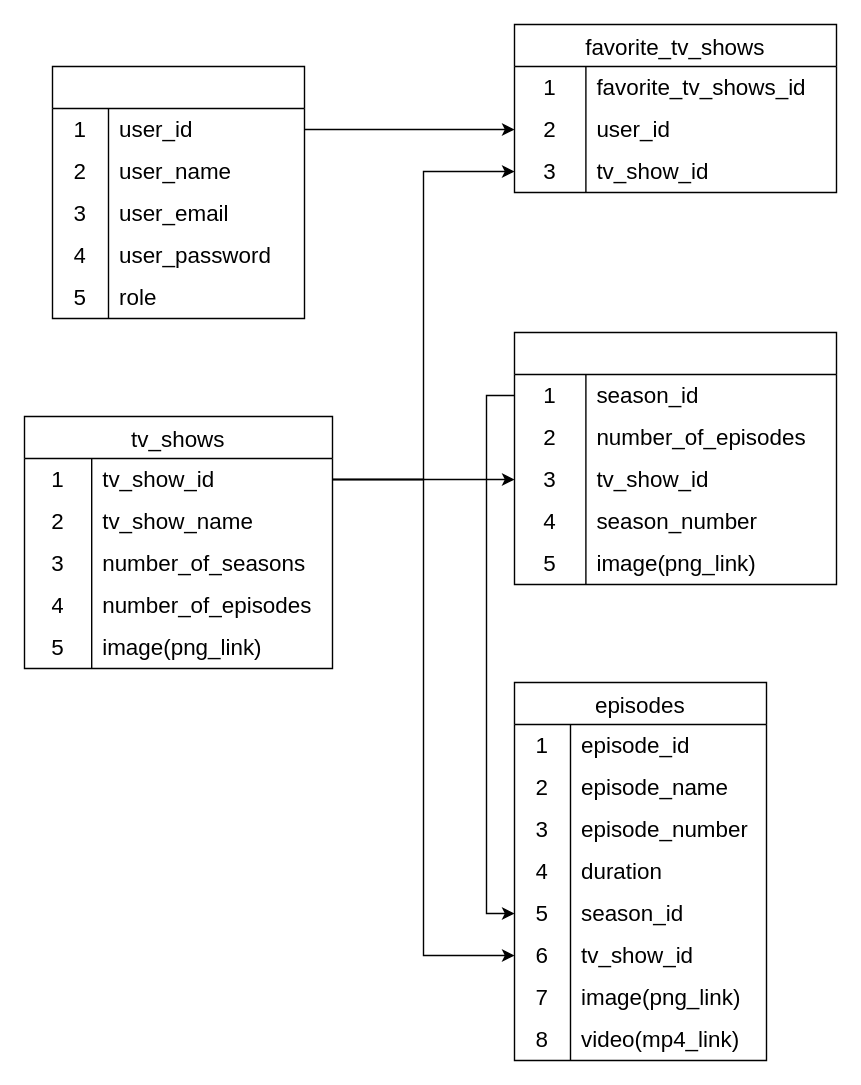
This 861x1085 diagram has some shape labels left out. The box of each missing label's shape, as (x1, y1, x2, y2) in pixels:
seasons: (513, 331, 836, 584)
users: (51, 65, 304, 318)
